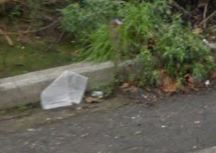trash: (27, 65, 104, 116)
